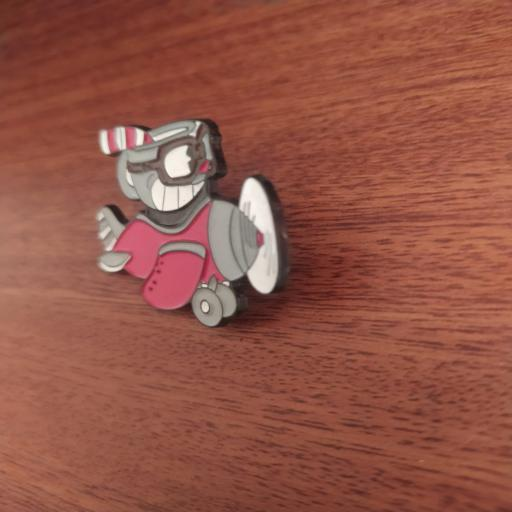Pin: (76, 110, 298, 340)
